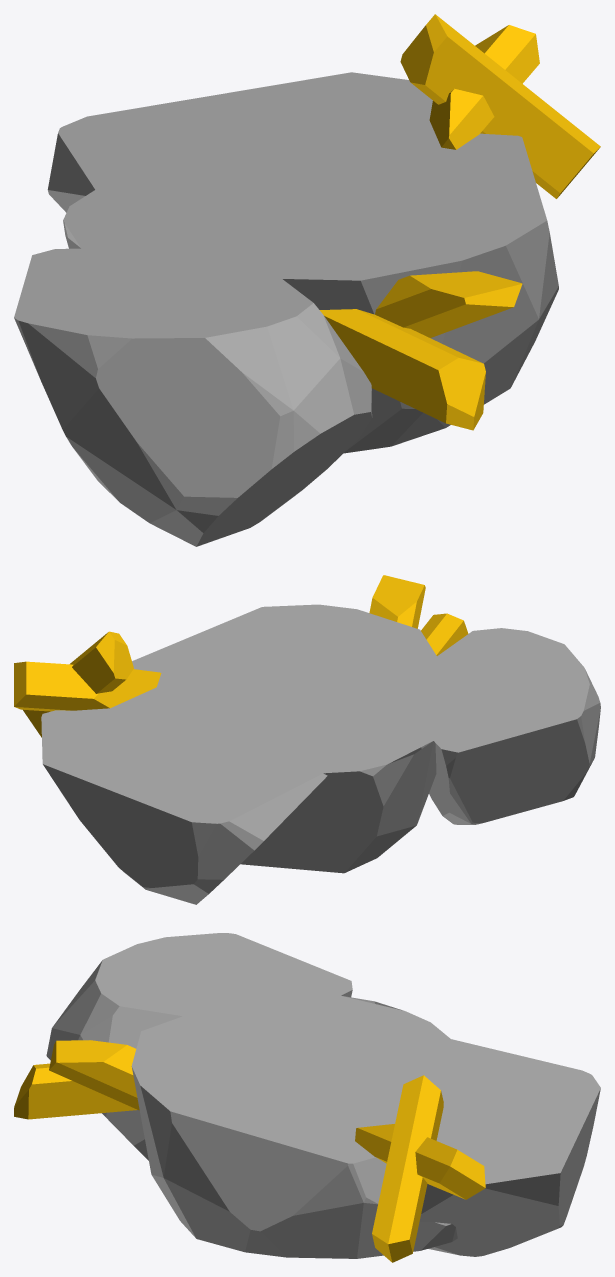
The model's file is GoldLow.fbx.
The picture shows the model from 3 angles, top to bottom: view 1: azimuth 30°, elevation 25°; view 2: azimuth 150°, elevation 25°; view 3: azimuth 270°, elevation 25°; orthographic projection. The views are drawn at different scales.
Visible parts, largest first — view 1: Cube.001; view 2: Cube.001; view 3: Cube.001.
Part boxes in pixels (x1,y1,x2,y2): Cube.001: (14, 14, 600, 546); Cube.001: (14, 575, 600, 904); Cube.001: (14, 933, 600, 1262).
Size of the model in its own units: 37.95 by 16.15 by 36.56.
